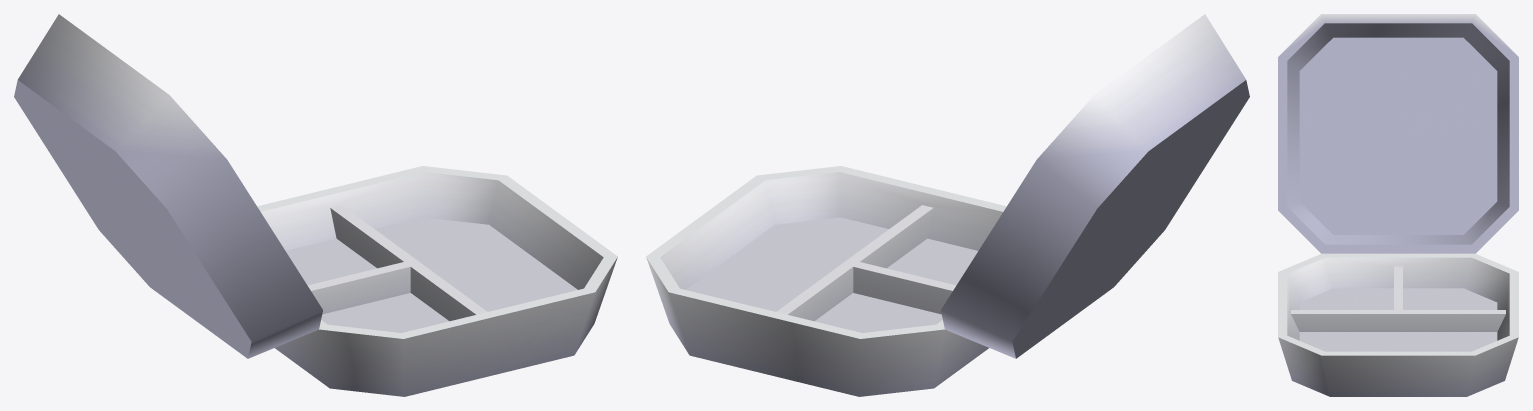
The model's file is styrofoam.glb.
The picture shows the model from 3 angles, left to right: view 1: azimuth 30°, elevation 25°; view 2: azimuth 150°, elevation 25°; view 3: azimuth 270°, elevation 25°; orthographic projection. The views are drawn at different scales.
Visible parts, largest first — view 1: styrofoam; view 2: styrofoam; view 3: styrofoam.
Part boxes in pixels (x1,y1,x2,y2): styrofoam: (14, 14, 617, 396); styrofoam: (646, 14, 1249, 396); styrofoam: (1278, 14, 1518, 396).
Bounding box in the file's own units: 1.26 × 0.822 × 0.7589.
Materials: 1 (1 with a texture image).
